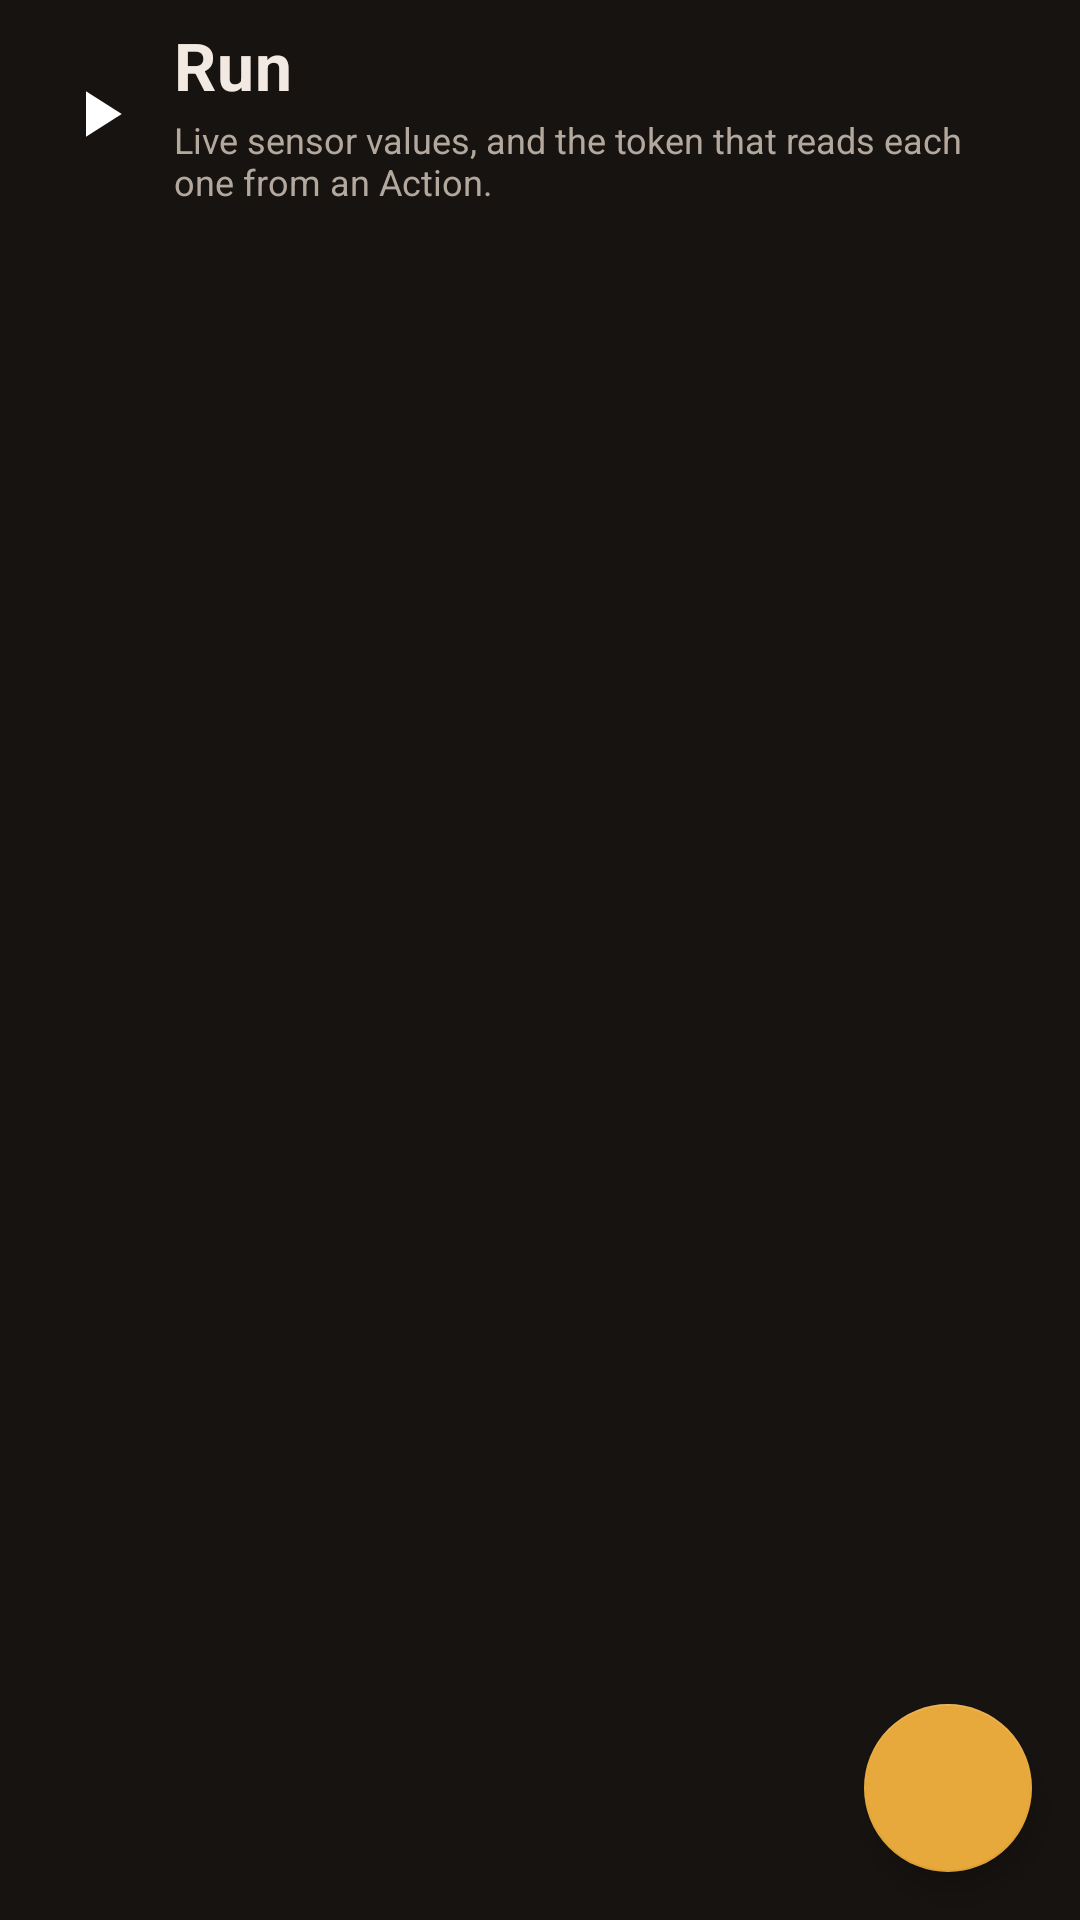

Screen size 1080px x 1920px. Icon name, then its box in pixels as (x1, y1, x2, y2):
play: (86, 91, 122, 137)
